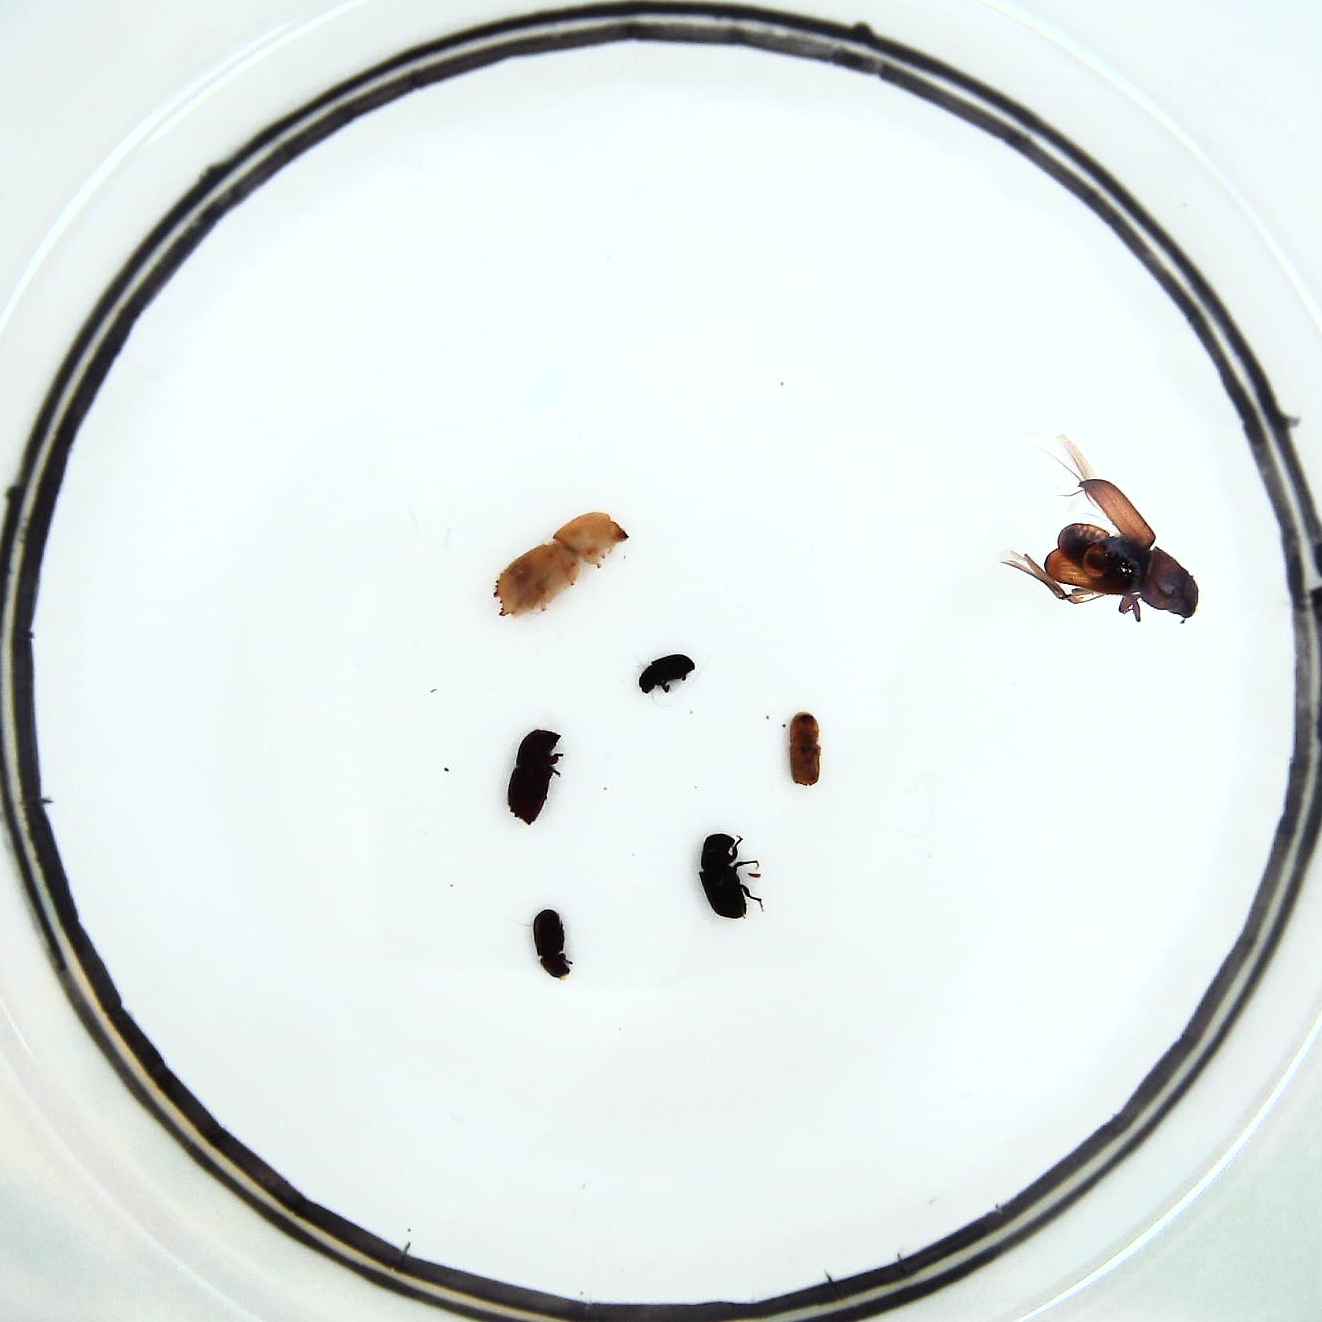Boerner: (494, 511, 626, 622)
Leconte: (1045, 475, 1200, 623)
Linnaeus: (508, 728, 562, 826)
acuminatus: (788, 708, 824, 792)
armandi: (700, 832, 748, 920)
coleoptera: (533, 906, 571, 981), (639, 657, 691, 696)
